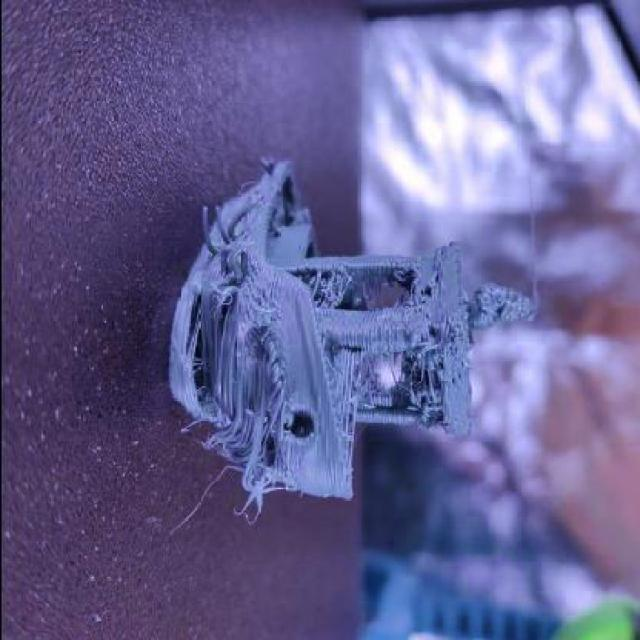spaghetti: (162, 249, 298, 535), (394, 244, 540, 444)
